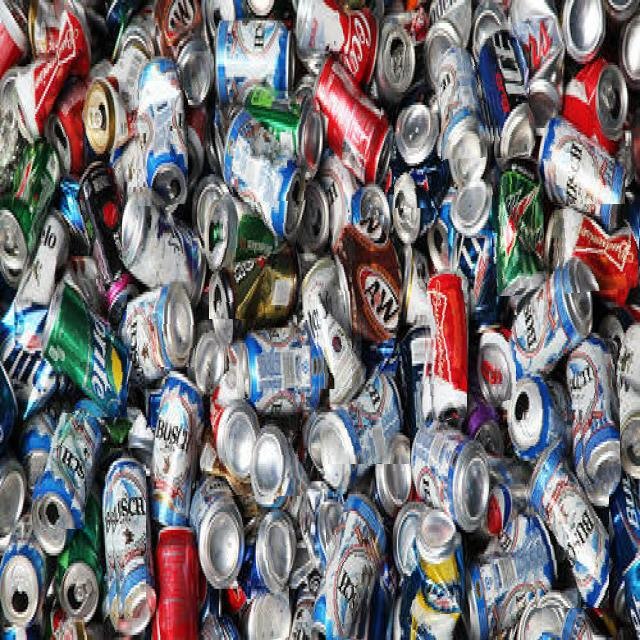Cans: (525, 446, 609, 608), (51, 277, 127, 417), (209, 206, 297, 319), (470, 522, 543, 640), (238, 91, 313, 202), (131, 63, 188, 206), (545, 122, 625, 219), (18, 17, 82, 138), (553, 204, 639, 294), (572, 338, 620, 484), (71, 162, 122, 299), (159, 374, 204, 526), (420, 277, 467, 421), (219, 416, 301, 496), (326, 507, 375, 640), (105, 462, 146, 619), (441, 38, 492, 160), (33, 413, 85, 529), (570, 30, 635, 121), (489, 13, 529, 158), (412, 532, 463, 640), (492, 179, 537, 296), (314, 252, 352, 389), (322, 405, 410, 464), (139, 289, 198, 367), (394, 118, 444, 208), (521, 377, 567, 464), (334, 84, 381, 168), (237, 334, 298, 398), (256, 527, 289, 640), (382, 20, 410, 88), (491, 326, 516, 401)
